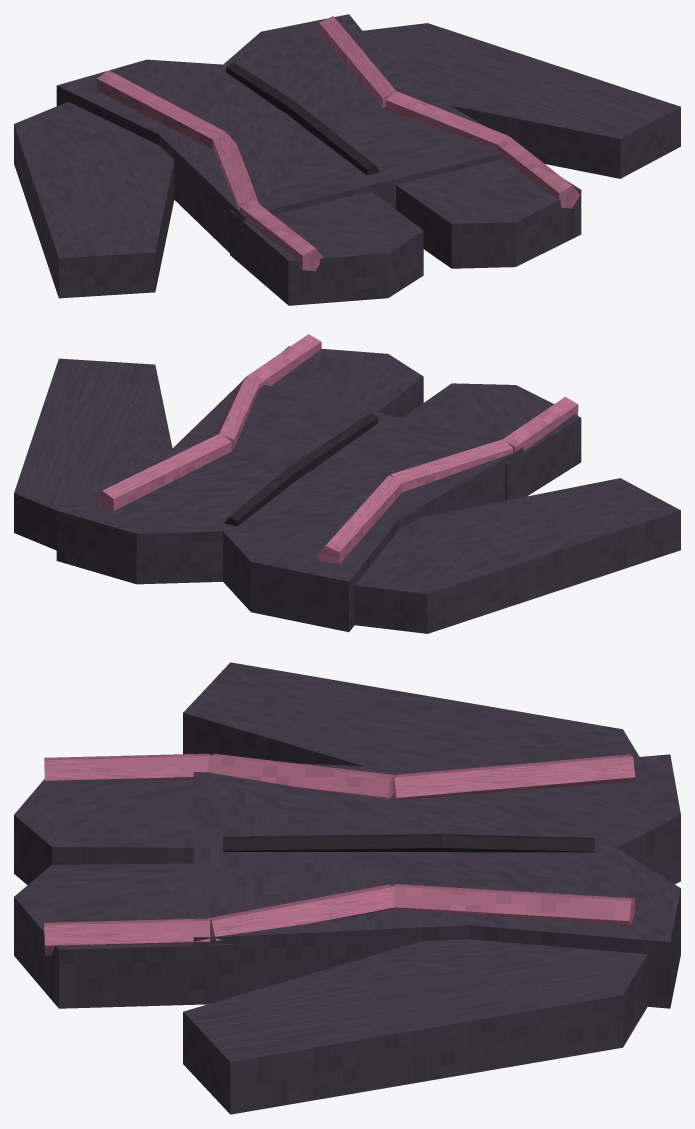
Rendered from wetsuit_spring.glb.
3 views of the same model, one above another, from view 1: azimuth 30°, elevation 25°; view 2: azimuth 150°, elevation 25°; view 3: azimuth 270°, elevation 25° (orthographic). The views are drawn at different scales.
Visible parts, largest first — view 1: block_sleeve (×2), block_one-piece torso, block_leg (×2), block_colored sealed stitching 0 (×2), block_colored sealed stitching 2 (×2), block_colored sealed stitching 1 (×2), block_body zip 1, block_body zip 0; view 2: block_one-piece torso, block_sleeve (×2), block_leg (×2), block_colored sealed stitching 0 (×2), block_colored sealed stitching 1 (×2), block_colored sealed stitching 2 (×2), block_body zip 1, block_body zip 0; view 3: block_sleeve (×2), block_one-piece torso, block_leg (×2), block_colored sealed stitching 0 (×2), block_colored sealed stitching 1 (×2), block_colored sealed stitching 2 (×2), block_body zip 1, block_body zip 0.
Boxes of the visible parts, bbox=[...] form: block_sleeve (×2): bbox=[14, 23, 680, 298]; block_one-piece torso: bbox=[56, 14, 502, 252]; block_leg (×2): bbox=[230, 159, 581, 305]; block_colored sealed stitching 0 (×2): bbox=[97, 16, 396, 149]; block_colored sealed stitching 2 (×2): bbox=[240, 136, 580, 271]; block_colored sealed stitching 1 (×2): bbox=[213, 91, 508, 209]; block_body zip 1: bbox=[286, 101, 379, 175]; block_body zip 0: bbox=[226, 62, 294, 113]; block_one-piece torso: bbox=[56, 382, 523, 631]; block_sleeve (×2): bbox=[14, 358, 680, 633]; block_leg (×2): bbox=[271, 346, 581, 500]; block_colored sealed stitching 0 (×2): bbox=[95, 433, 401, 564]; block_colored sealed stitching 1 (×2): bbox=[214, 377, 512, 492]; block_colored sealed stitching 2 (×2): bbox=[245, 334, 578, 451]; block_body zip 1: bbox=[285, 413, 378, 482]; block_body zip 0: bbox=[224, 469, 293, 526]; block_sleeve (×2): bbox=[183, 662, 647, 1114]; block_one-piece torso: bbox=[193, 754, 680, 1008]; block_leg (×2): bbox=[14, 779, 233, 1008]; block_colored sealed stitching 0 (×2): bbox=[392, 754, 635, 925]; block_colored sealed stitching 1 (×2): bbox=[207, 754, 395, 941]; block_colored sealed stitching 2 (×2): bbox=[44, 753, 210, 955]; block_body zip 1: bbox=[223, 834, 440, 851]; block_body zip 0: bbox=[441, 834, 594, 852].
Size of the model in its own units: 0.8286 by 0.0852 by 0.5842.
Materials: 1 (1 with a texture image).
